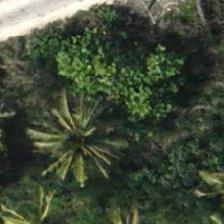Kelapa_Sawit: (32, 96, 122, 186)
